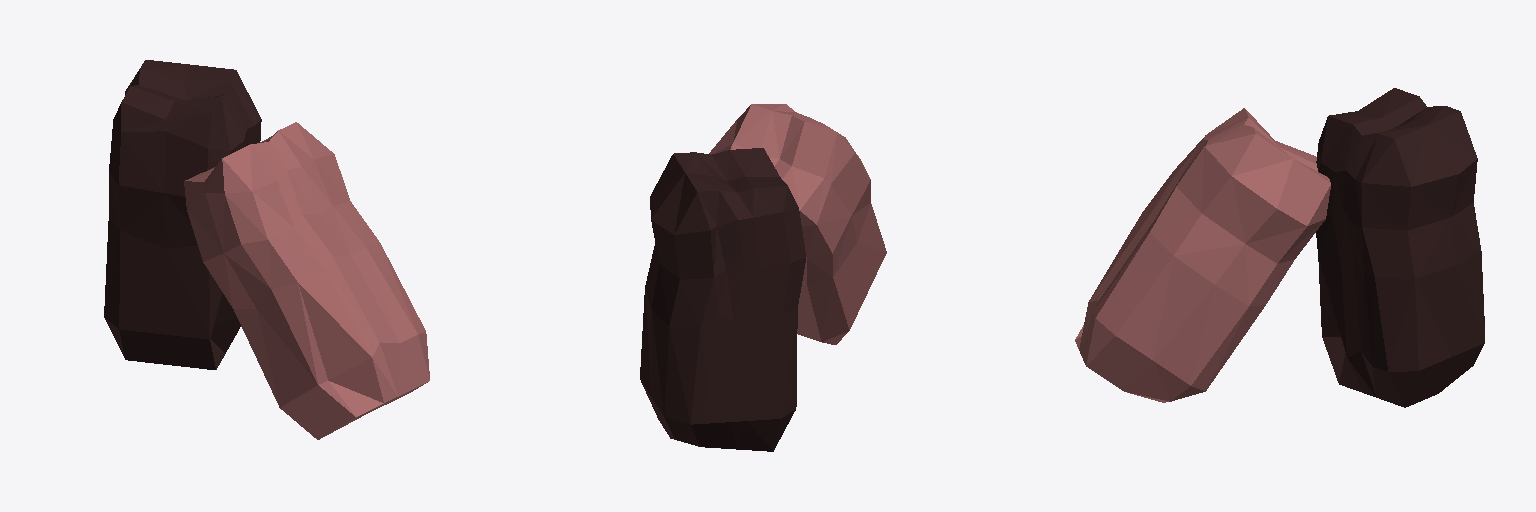
Rendered from lowpolypillarpair.obj.
3 views of the same model, side by side, from view 1: azimuth 30°, elevation 25°; view 2: azimuth 150°, elevation 25°; view 3: azimuth 270°, elevation 25° (orthographic).
Parts seen in each view (by area): view 1: Cube.001_Cube.002, Cube.001; view 2: Cube.001, Cube.001_Cube.002; view 3: Cube.001, Cube.001_Cube.002.
Boxes of the visible parts, x1,y1,x2,y2 form: Cube.001_Cube.002: [184, 122, 429, 439]; Cube.001: [104, 60, 261, 369]; Cube.001: [640, 148, 805, 451]; Cube.001_Cube.002: [709, 104, 886, 344]; Cube.001: [1316, 88, 1484, 407]; Cube.001_Cube.002: [1075, 108, 1330, 402].
Bounding box in the file's own units: 2.96 × 4.39 × 5.99.